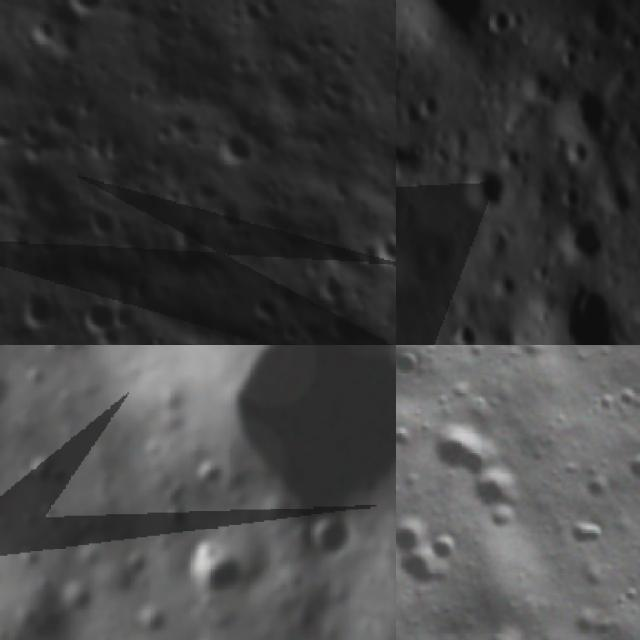crater: (428, 414, 504, 490), (463, 456, 535, 530), (180, 537, 247, 604), (554, 279, 619, 345), (1, 281, 66, 343), (451, 160, 514, 221), (554, 502, 615, 564), (558, 81, 615, 146), (560, 208, 616, 272), (300, 504, 354, 567), (36, 88, 90, 149), (421, 0, 495, 44), (14, 2, 68, 61), (396, 504, 442, 571), (214, 128, 263, 180), (582, 0, 633, 46), (475, 612, 549, 640), (374, 129, 396, 222), (424, 523, 468, 569), (75, 294, 118, 341), (396, 345, 438, 393), (46, 0, 112, 29), (480, 0, 515, 48), (413, 86, 449, 129), (613, 443, 640, 497), (396, 412, 423, 459), (0, 167, 17, 220), (0, 368, 17, 416)
